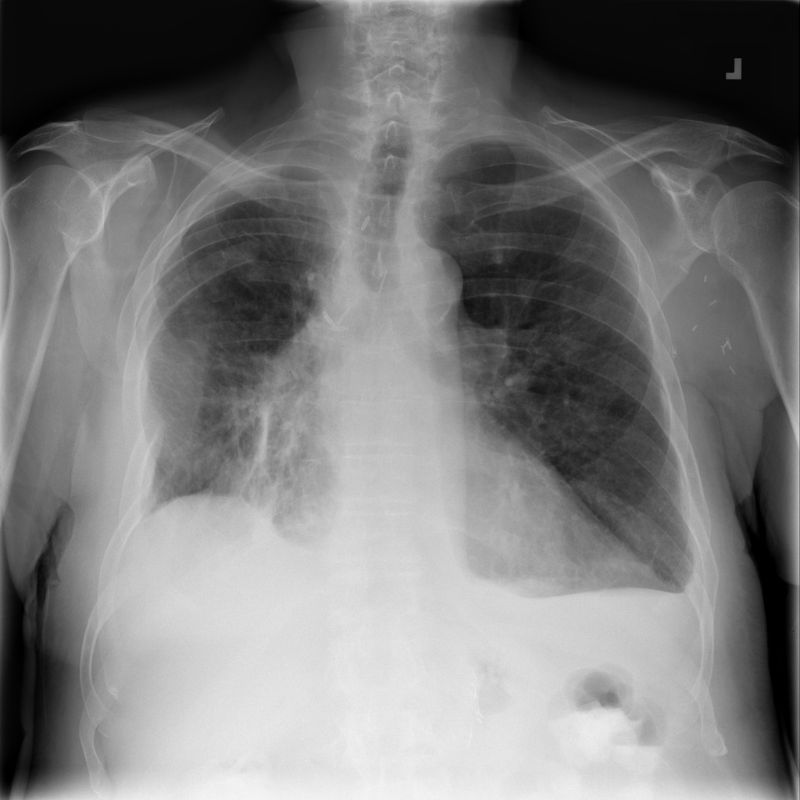PLEURAL EFFUSION: (123, 469, 206, 629), (640, 540, 717, 674)
